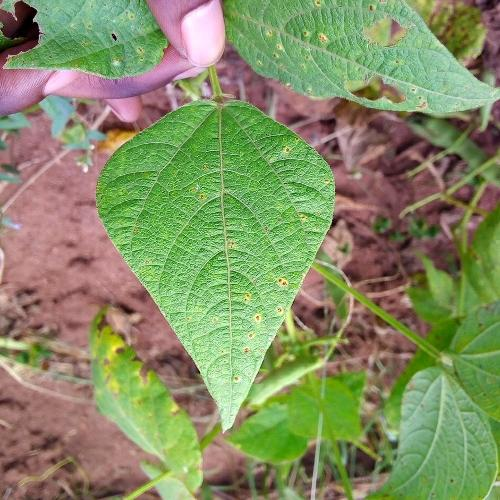mozaik: (337, 62, 419, 109), (354, 8, 423, 57)
